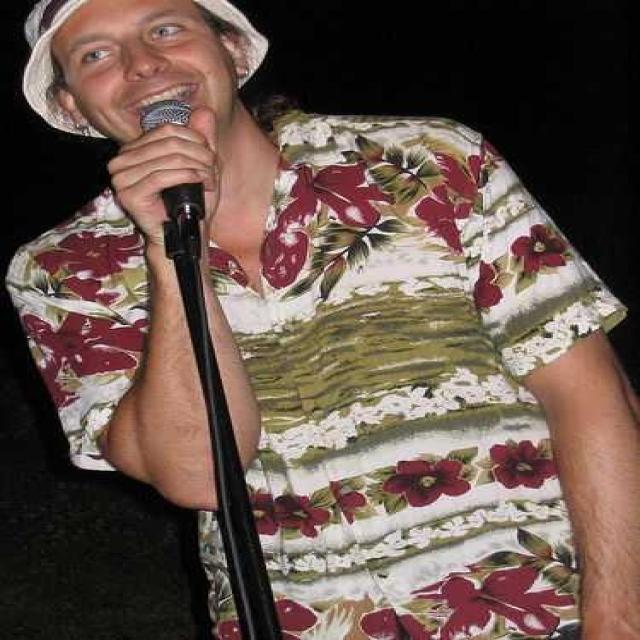microphone: (112, 96, 212, 252)
